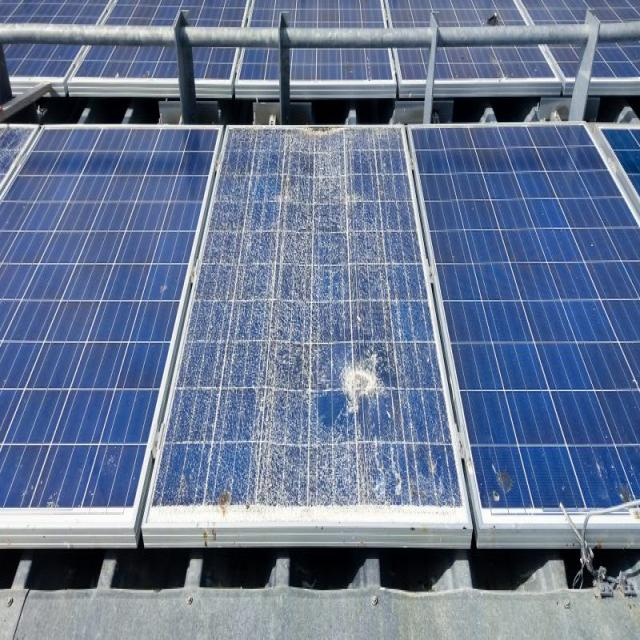faulty: (145, 117, 463, 514), (412, 123, 640, 510), (0, 130, 216, 509)
